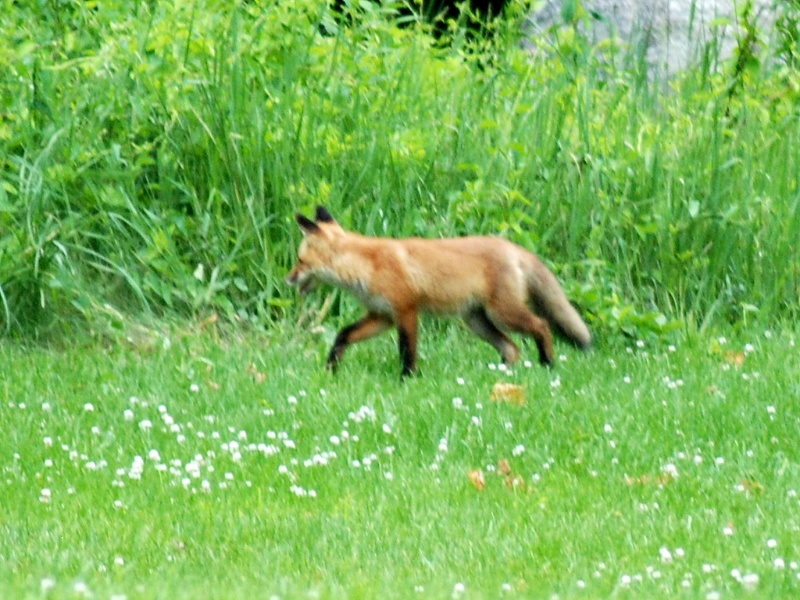fox: (286, 199, 597, 373)
